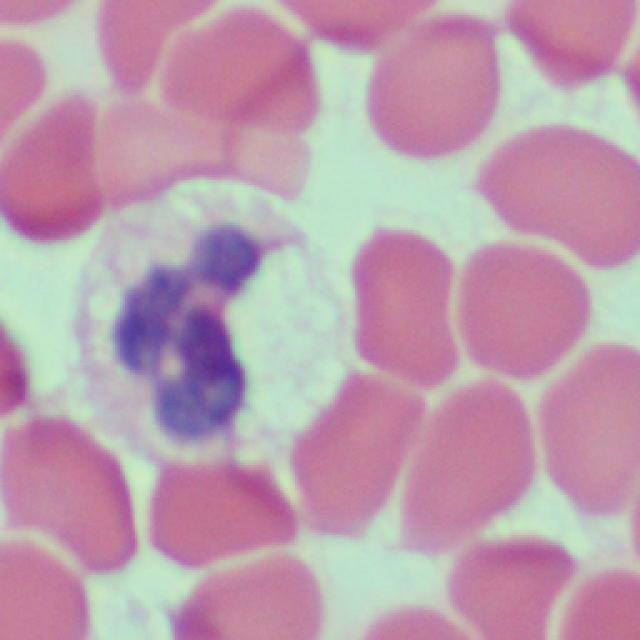RBC: (434, 408, 564, 640), (473, 118, 639, 270), (0, 415, 140, 583), (348, 215, 461, 417), (291, 360, 418, 537), (359, 10, 496, 174), (448, 231, 590, 387), (150, 12, 318, 143), (400, 372, 532, 534), (532, 334, 637, 530), (144, 450, 315, 565), (0, 83, 111, 252), (86, 3, 242, 96), (169, 558, 345, 640), (504, 0, 638, 92), (280, 0, 477, 52), (0, 540, 88, 638)
WBC: (80, 191, 324, 468)
